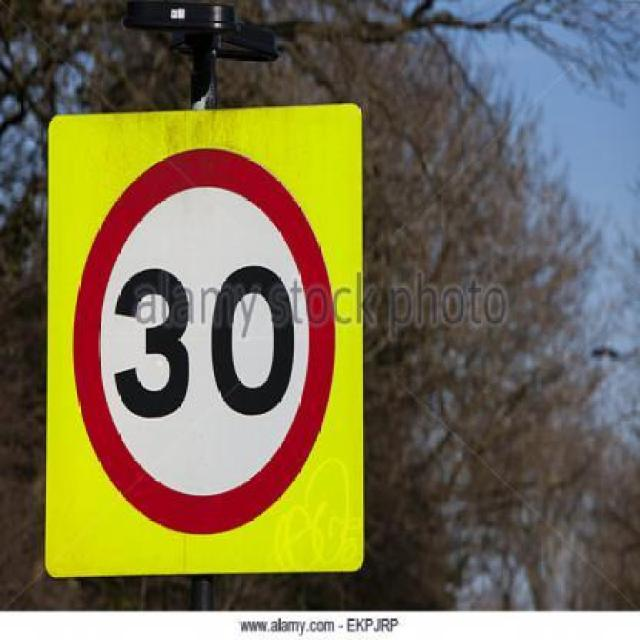speed_limit_30: (81, 149, 330, 537)
